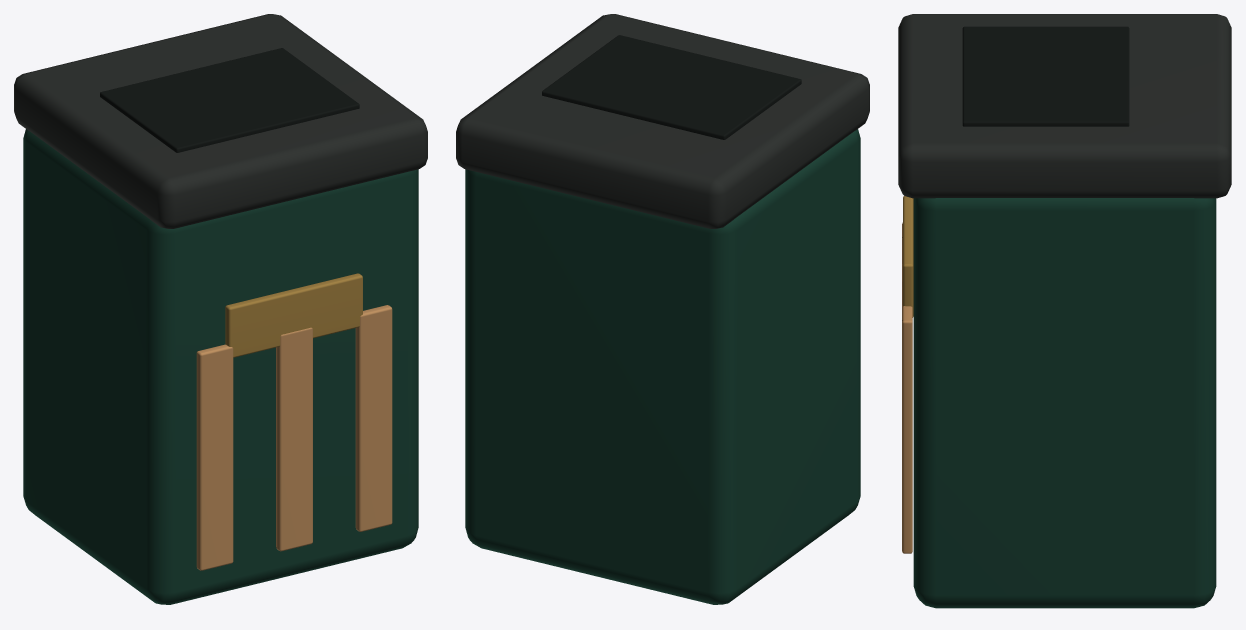
The model's file is pine_hills_public_waste_bin_v1.glb.
3 views of the same model, side by side, from view 1: azimuth 30°, elevation 25°; view 2: azimuth 150°, elevation 25°; view 3: azimuth 270°, elevation 25° (orthographic). The views are drawn at different scales.
Parts seen in each view (by area): view 1: MESH_WasteBinBody, MESH_WasteBinTopRim, MESH_WasteBinOpening, MESH_WasteBinOakSlat_01, MESH_WasteBinOakSlat_03, MESH_WasteBinOakSlat_02, MESH_WasteBinFrontPlaque; view 2: MESH_WasteBinBody, MESH_WasteBinTopRim, MESH_WasteBinOpening; view 3: MESH_WasteBinBody, MESH_WasteBinTopRim, MESH_WasteBinOpening, MESH_WasteBinOakSlat_03, MESH_WasteBinFrontPlaque.
Part boxes in pixels (box(x1,y1,x2,y2)): MESH_WasteBinBody: box(23, 129, 418, 604); MESH_WasteBinTopRim: box(14, 14, 427, 228); MESH_WasteBinOpening: box(100, 48, 359, 152); MESH_WasteBinOakSlat_01: box(196, 344, 233, 570); MESH_WasteBinOakSlat_03: box(355, 305, 392, 531); MESH_WasteBinOakSlat_02: box(276, 327, 312, 551); MESH_WasteBinFrontPlaque: box(225, 273, 362, 357); MESH_WasteBinBody: box(465, 129, 860, 604); MESH_WasteBinTopRim: box(456, 14, 869, 228); MESH_WasteBinOpening: box(542, 35, 801, 139); MESH_WasteBinBody: box(913, 198, 1216, 608); MESH_WasteBinTopRim: box(898, 14, 1231, 198); MESH_WasteBinOpening: box(962, 26, 1129, 126); MESH_WasteBinOakSlat_03: box(902, 306, 912, 553); MESH_WasteBinFrontPlaque: box(903, 196, 913, 317).
Bounding box in the file's own units: 0.44 × 0.687 × 0.44.
